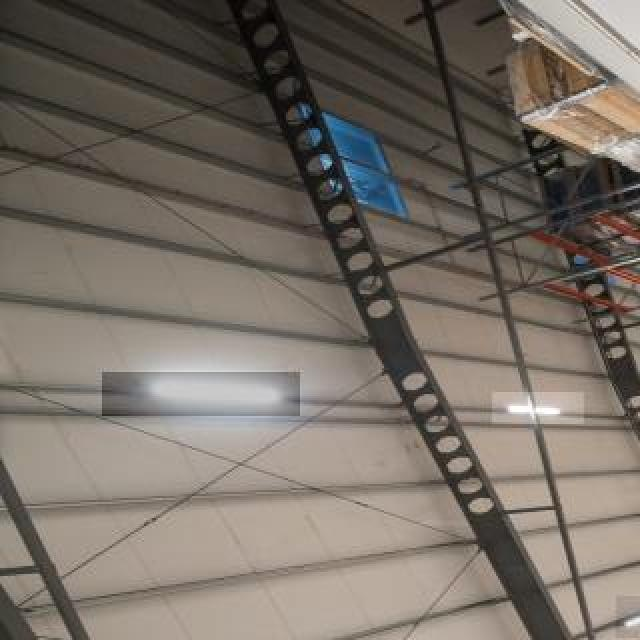fluorescent tube: (109, 369, 306, 420), (489, 382, 578, 427), (616, 602, 640, 638)
